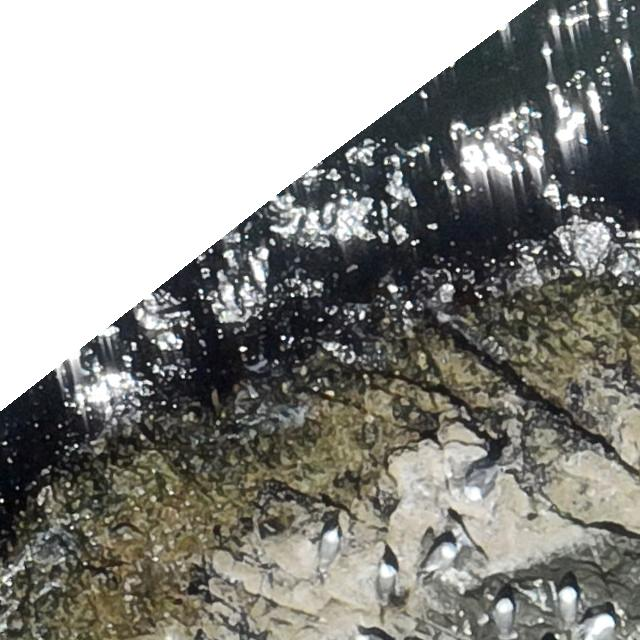umineko: (466, 465, 499, 502), (423, 542, 455, 576), (583, 612, 617, 640), (322, 531, 340, 564), (558, 586, 575, 620), (496, 600, 513, 631), (381, 566, 395, 594)
